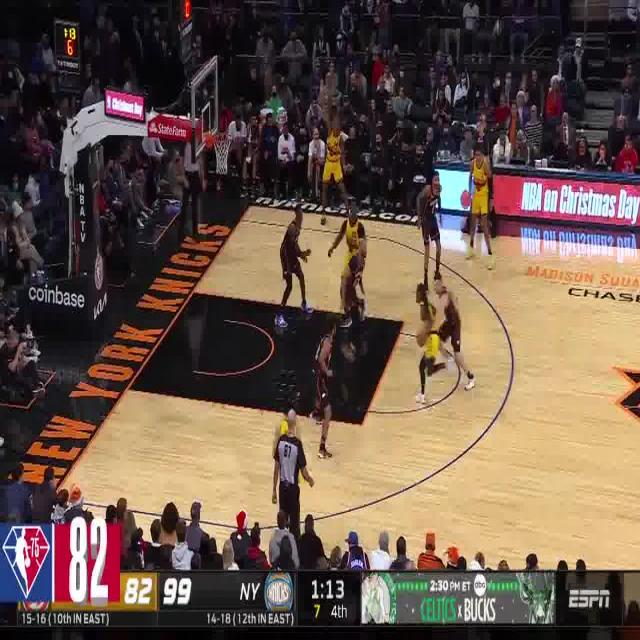ball-handler: (406, 280, 446, 408)
